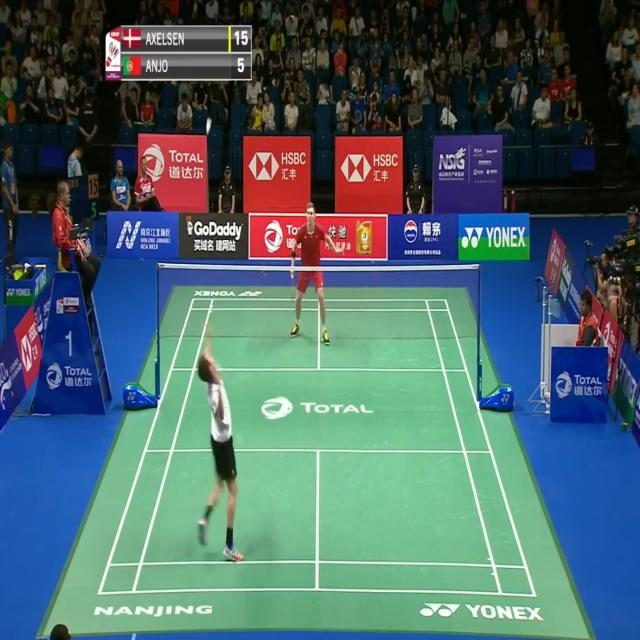Player1: (190, 303, 248, 565)
Player2: (286, 193, 348, 347)
